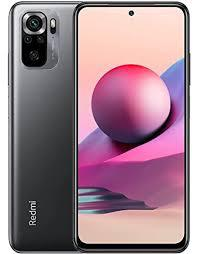Smartphone: (80, 5, 189, 249), (10, 2, 80, 247)
